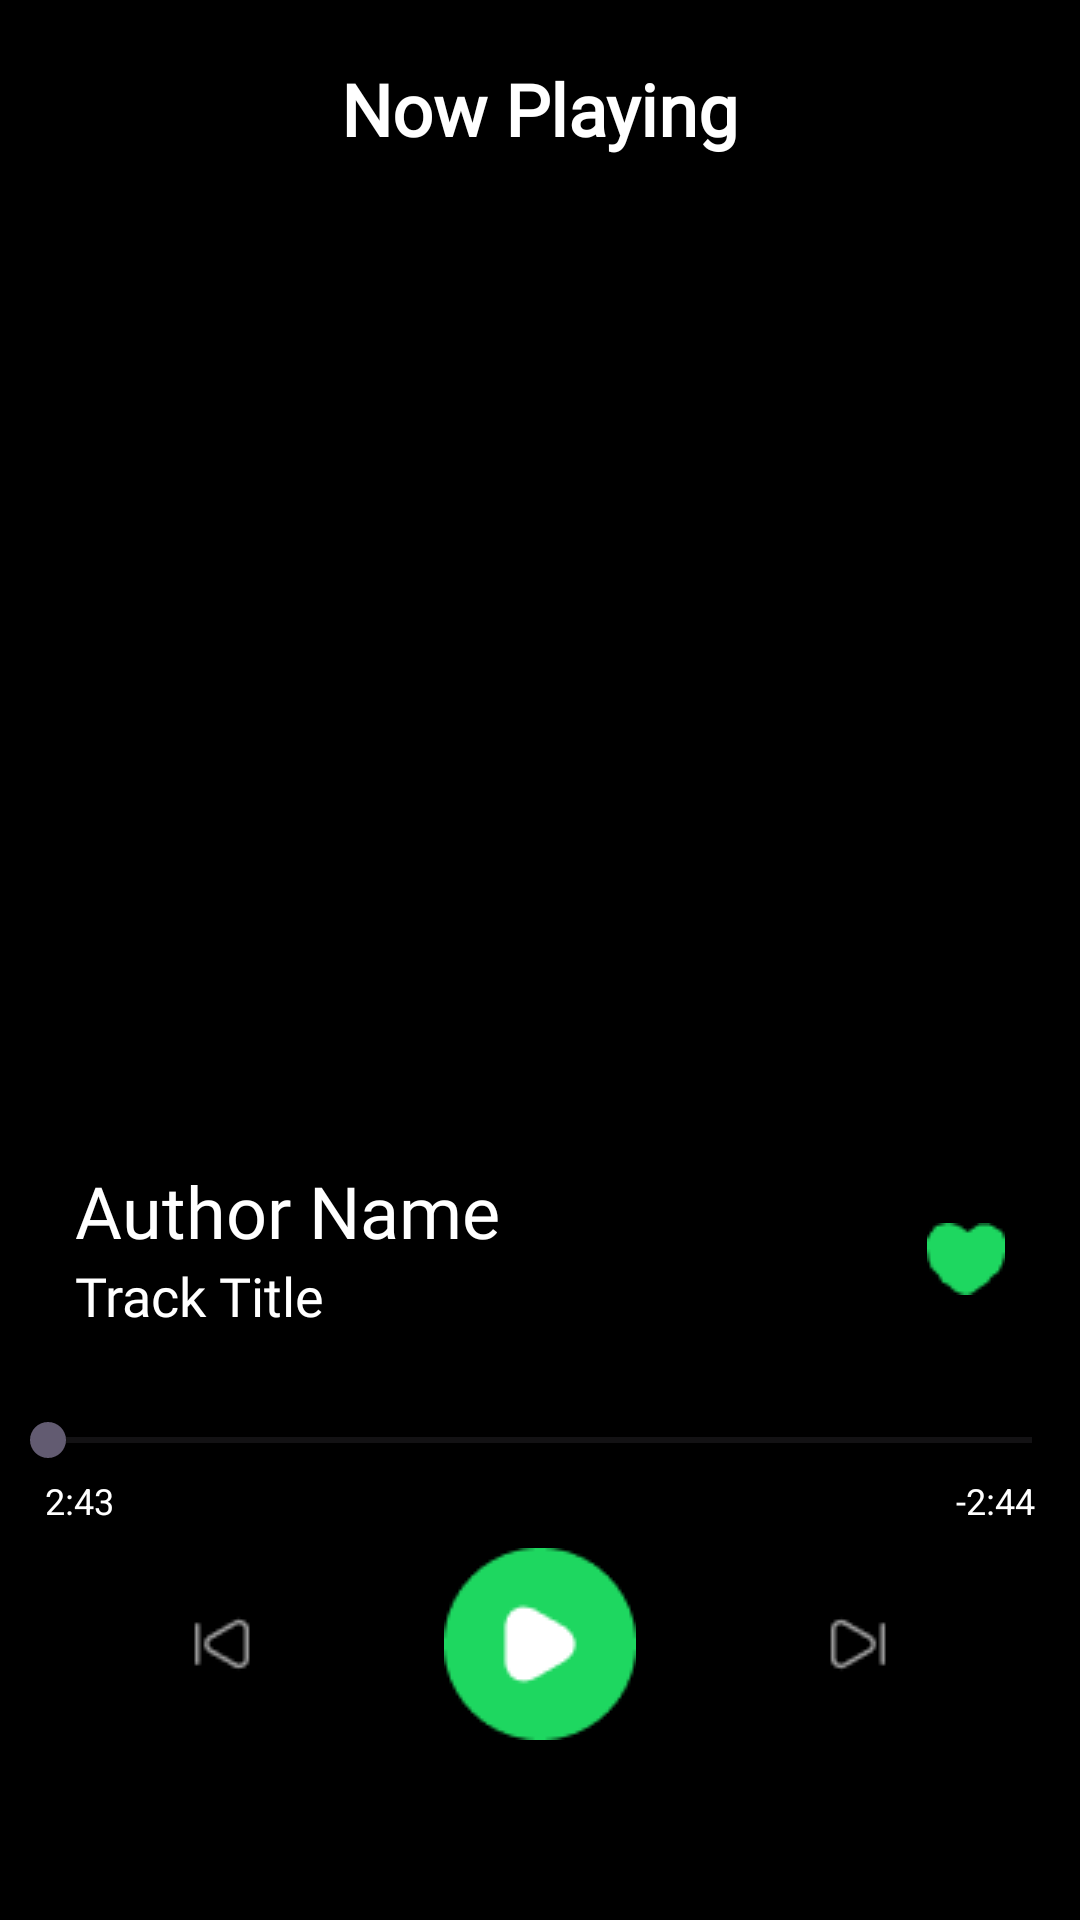

Screen size 1080×1920. Icon name, then its box in pixels as (x1, y1, x2, y2):
next: (830, 1619, 886, 1669)
playimage: (444, 1548, 636, 1740)
previous: (194, 1619, 250, 1669)
